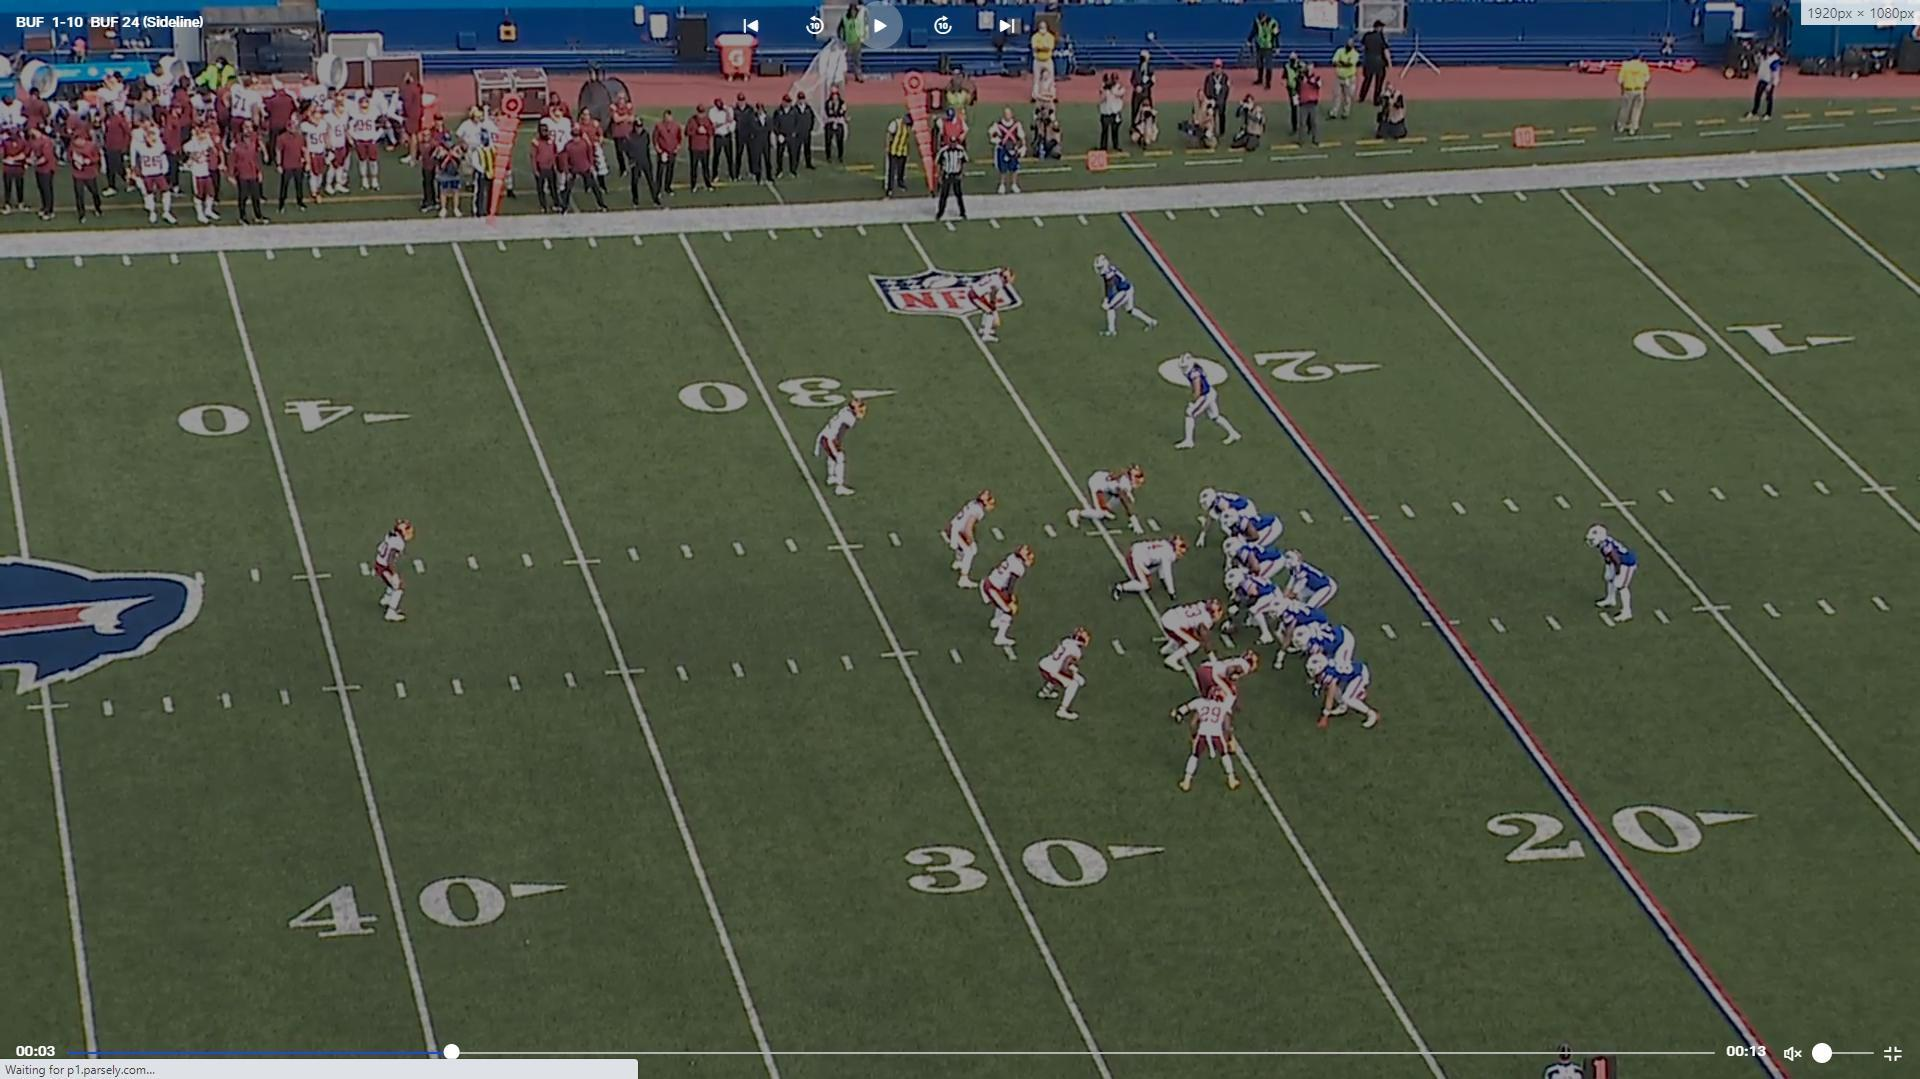defense: (1176, 681, 1245, 801), (1168, 648, 1258, 728), (985, 543, 1039, 654), (375, 520, 425, 631), (1063, 464, 1143, 533), (1039, 625, 1095, 724), (945, 489, 996, 596), (816, 397, 866, 500), (1156, 599, 1224, 675), (1117, 536, 1191, 604), (972, 265, 1010, 356)
oline: (1294, 623, 1361, 696), (1265, 595, 1331, 667), (1222, 569, 1287, 642), (1224, 536, 1291, 580), (1221, 509, 1286, 553)
qb: (1283, 551, 1336, 611)
ref: (931, 136, 973, 226)
skill: (1170, 351, 1240, 454), (1093, 253, 1163, 343), (1585, 521, 1642, 627), (1312, 652, 1383, 733), (1200, 484, 1258, 543)
